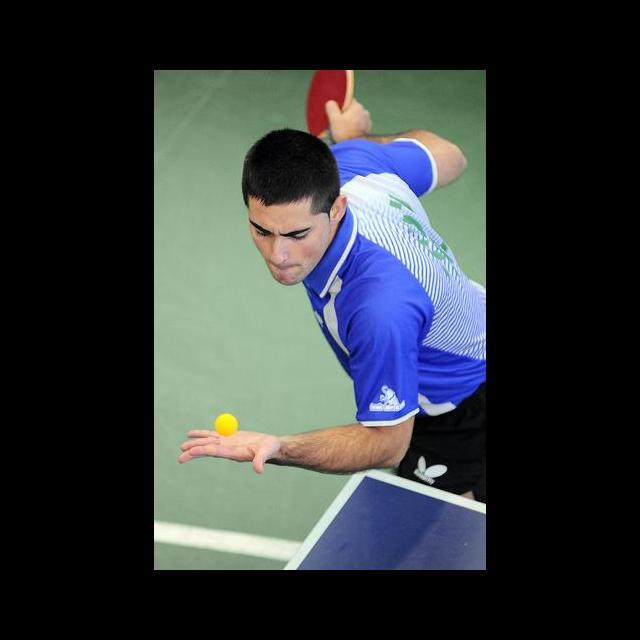ping-pong-ball: (214, 414, 240, 436)
